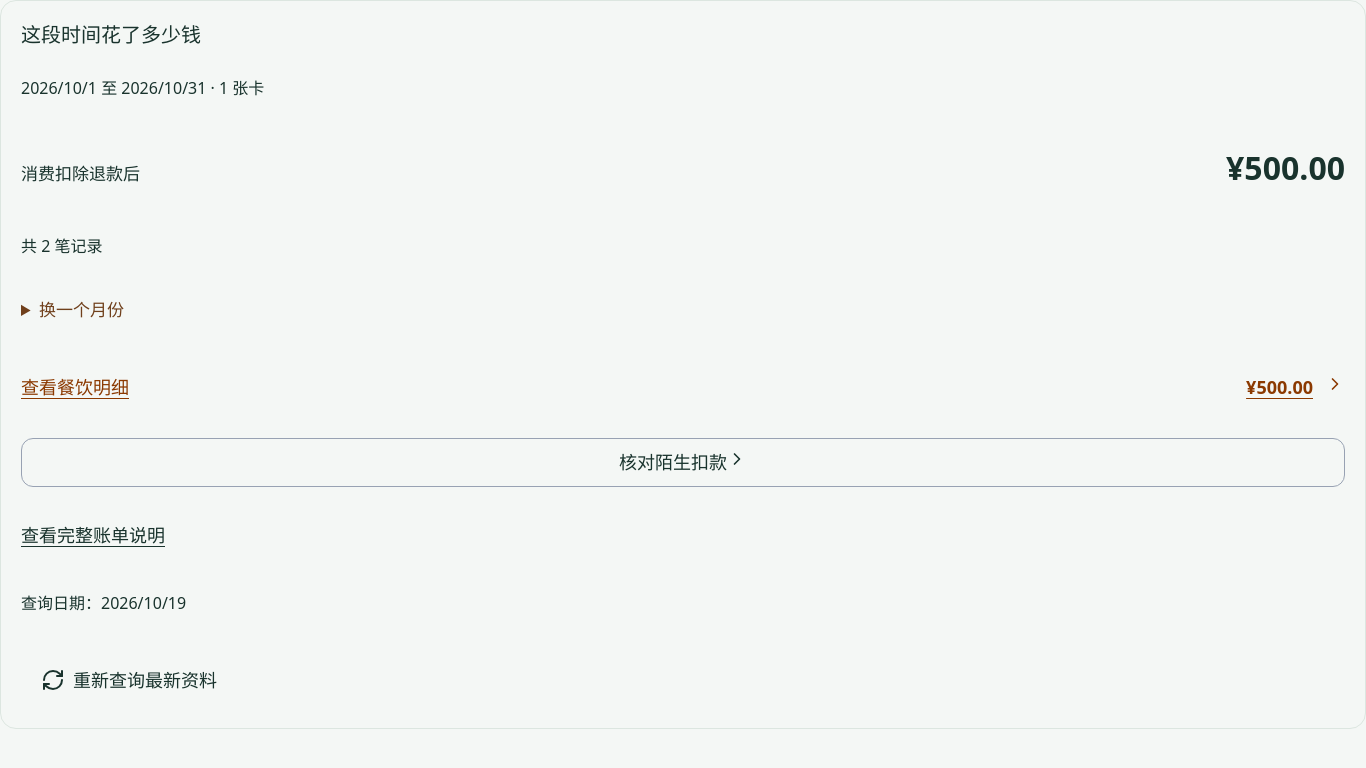
Scenario: bills slot › shows a report from the returned summary and spoken text, without a transaction list
Click the button "查看完整账单说明".
click(93, 535)  # box [21,507,1345,563]
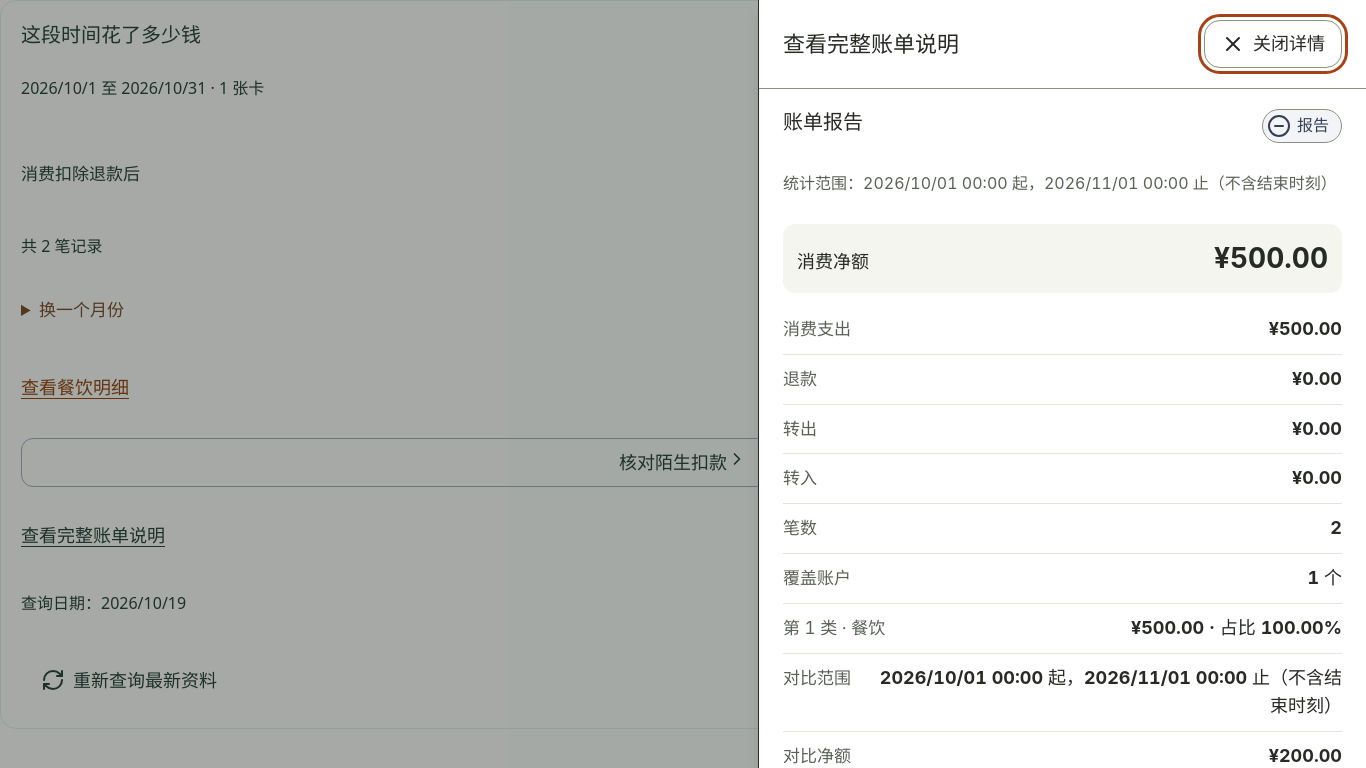
Now the heading "账单报告" is shown, box [783,109,863,136]
